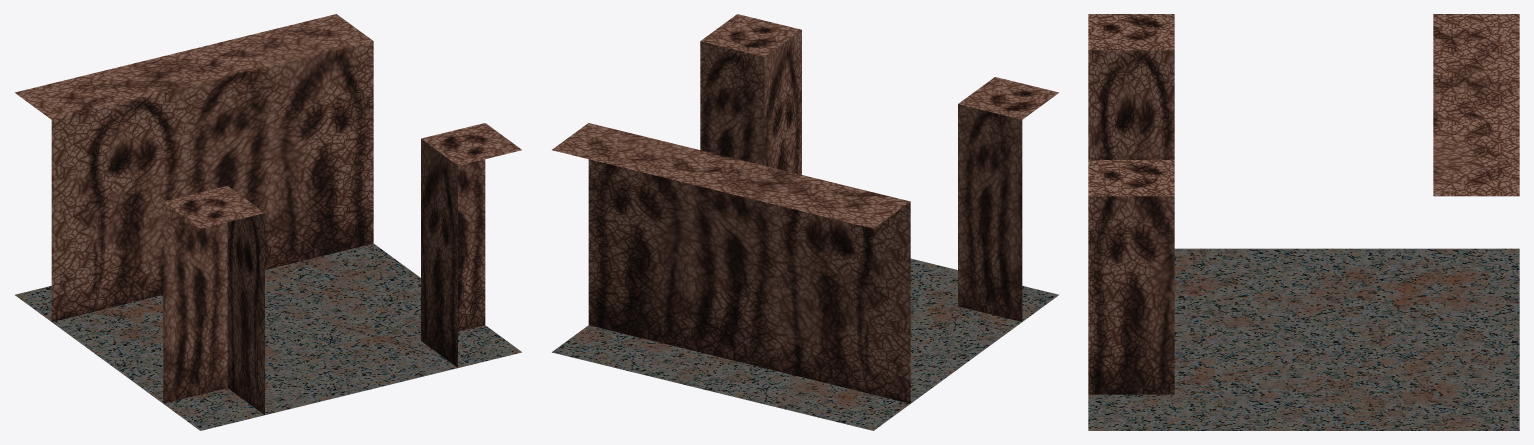
Rendered from T_Edge.fbx.
3 views of the same model, side by side, from view 1: azimuth 30°, elevation 25°; view 2: azimuth 150°, elevation 25°; view 3: azimuth 270°, elevation 25° (orthographic). The views are drawn at different scales.
Visible parts, largest first — view 1: T_Edge; view 2: T_Edge; view 3: T_Edge.
Part boxes in pixels (box(x1,y1,x2,y2)): T_Edge: box(15, 14, 521, 430); T_Edge: box(552, 14, 1058, 430); T_Edge: box(1088, 14, 1519, 430).
Bounding box in the file's own units: 100 × 60 × 100.
1 material, 1 textured.
